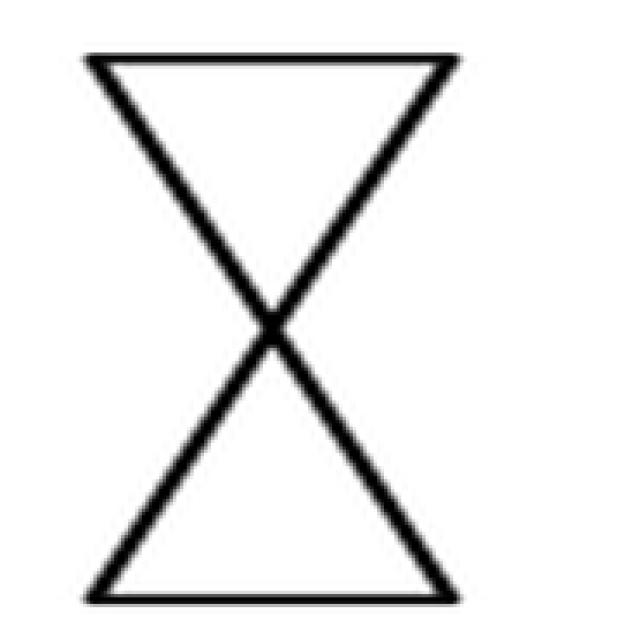Gate valve: (86, 53, 453, 601)
